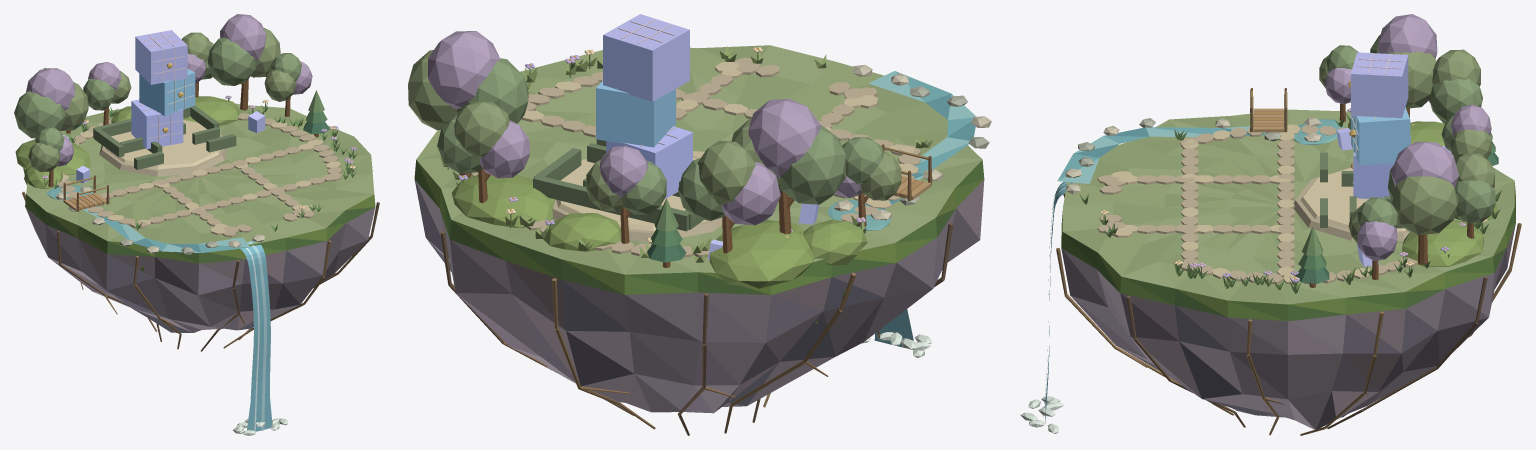
The model's file is island_reasoning_v2.glb.
The picture shows the model from 3 angles, left to right: view 1: azimuth 30°, elevation 25°; view 2: azimuth 150°, elevation 25°; view 3: azimuth 270°, elevation 25°; orthographic projection. The views are drawn at different scales.
Visible parts, largest first — view 1: SW15_reasoning_meadow, SW15_reasoning_leaves, SW15_reasoning_cliff, SW15_reasoning_stone, SW15_reasoning_crystal, SW15_reasoning_water, SW15_reasoning_roots, SW15_reasoning_timber, SW15_reasoning_foam; view 2: SW15_reasoning_meadow, SW15_reasoning_cliff, SW15_reasoning_leaves, SW15_reasoning_stone, SW15_reasoning_crystal, SW15_reasoning_water, SW15_reasoning_roots, SW15_reasoning_timber, SW15_reasoning_foam; view 3: SW15_reasoning_meadow, SW15_reasoning_cliff, SW15_reasoning_leaves, SW15_reasoning_stone, SW15_reasoning_crystal, SW15_reasoning_roots, SW15_reasoning_water, SW15_reasoning_timber, SW15_reasoning_foam.
Boxes of the visible parts, box(x1,y1,x2,y2) form: SW15_reasoning_meadow: box(15, 96, 375, 263); SW15_reasoning_leaves: box(14, 14, 357, 271); SW15_reasoning_cliff: box(25, 207, 375, 332); SW15_reasoning_stone: box(55, 32, 342, 254); SW15_reasoning_crystal: box(63, 30, 265, 183); SW15_reasoning_water: box(46, 185, 272, 431); SW15_reasoning_roots: box(22, 191, 379, 351); SW15_reasoning_timber: box(48, 79, 318, 211); SW15_reasoning_foam: box(233, 248, 288, 435); SW15_reasoning_meadow: box(414, 45, 984, 295); SW15_reasoning_cliff: box(414, 179, 984, 413); SW15_reasoning_leaves: box(408, 31, 932, 323); SW15_reasoning_stone: box(472, 19, 991, 257); SW15_reasoning_crystal: box(596, 14, 818, 260); SW15_reasoning_water: box(827, 71, 975, 347); SW15_reasoning_roots: box(440, 223, 953, 435); SW15_reasoning_timber: box(459, 144, 931, 267); SW15_reasoning_foam: box(862, 332, 932, 357); SW15_reasoning_meadow: box(1061, 109, 1515, 321); SW15_reasoning_cliff: box(1061, 224, 1515, 430); SW15_reasoning_leaves: box(1079, 14, 1501, 293); SW15_reasoning_stone: box(1065, 53, 1474, 284); SW15_reasoning_crystal: box(1336, 52, 1451, 266); SW15_reasoning_roots: box(1056, 193, 1521, 435); SW15_reasoning_water: box(1043, 119, 1343, 423); SW15_reasoning_timber: box(1250, 88, 1474, 287); SW15_reasoning_foam: box(1020, 182, 1066, 433).
Bounding box in the file's own units: 9.28 × 8.25 × 10.01.
